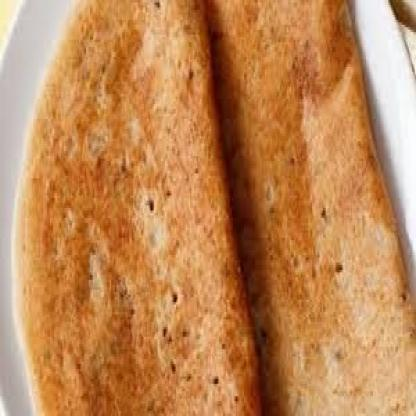dosa: (12, 0, 261, 416), (203, 0, 416, 416)
